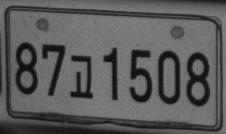0: (157, 49, 181, 105)
1: (100, 47, 124, 100)
5: (128, 48, 153, 103)
7: (41, 42, 66, 97)
8: (185, 51, 211, 106), (14, 41, 39, 94)
고: (69, 54, 93, 99)
